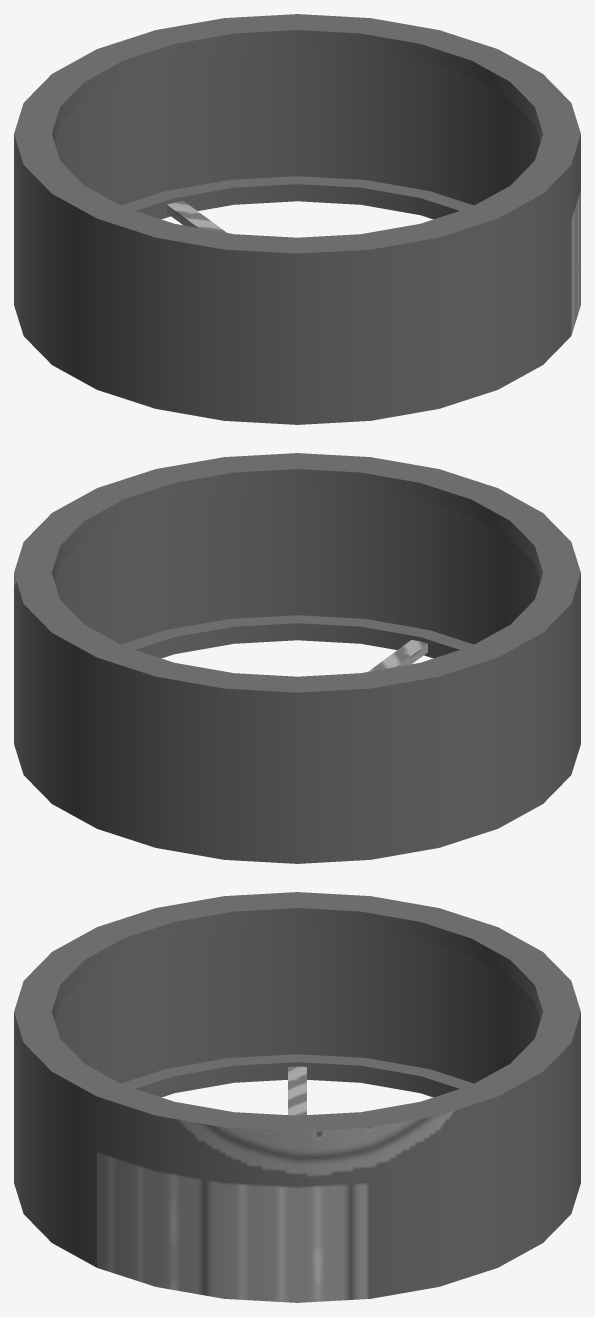
Rendered from vega_fuselage_s1p5_1.obj.
3 views of the same model, one above another, from view 1: azimuth 30°, elevation 25°; view 2: azimuth 150°, elevation 25°; view 3: azimuth 270°, elevation 25° (orthographic).
Visible parts, largest first — view 1: vega_fuselage_s1p5_1; view 2: vega_fuselage_s1p5_1; view 3: vega_fuselage_s1p5_1.
Part boxes in pixels (x1,y1,x2,y2): vega_fuselage_s1p5_1: (14, 14, 580, 424); vega_fuselage_s1p5_1: (14, 453, 580, 863); vega_fuselage_s1p5_1: (14, 892, 580, 1302).
Size of the model in its own units: 1.88 by 0.625 by 1.88.
